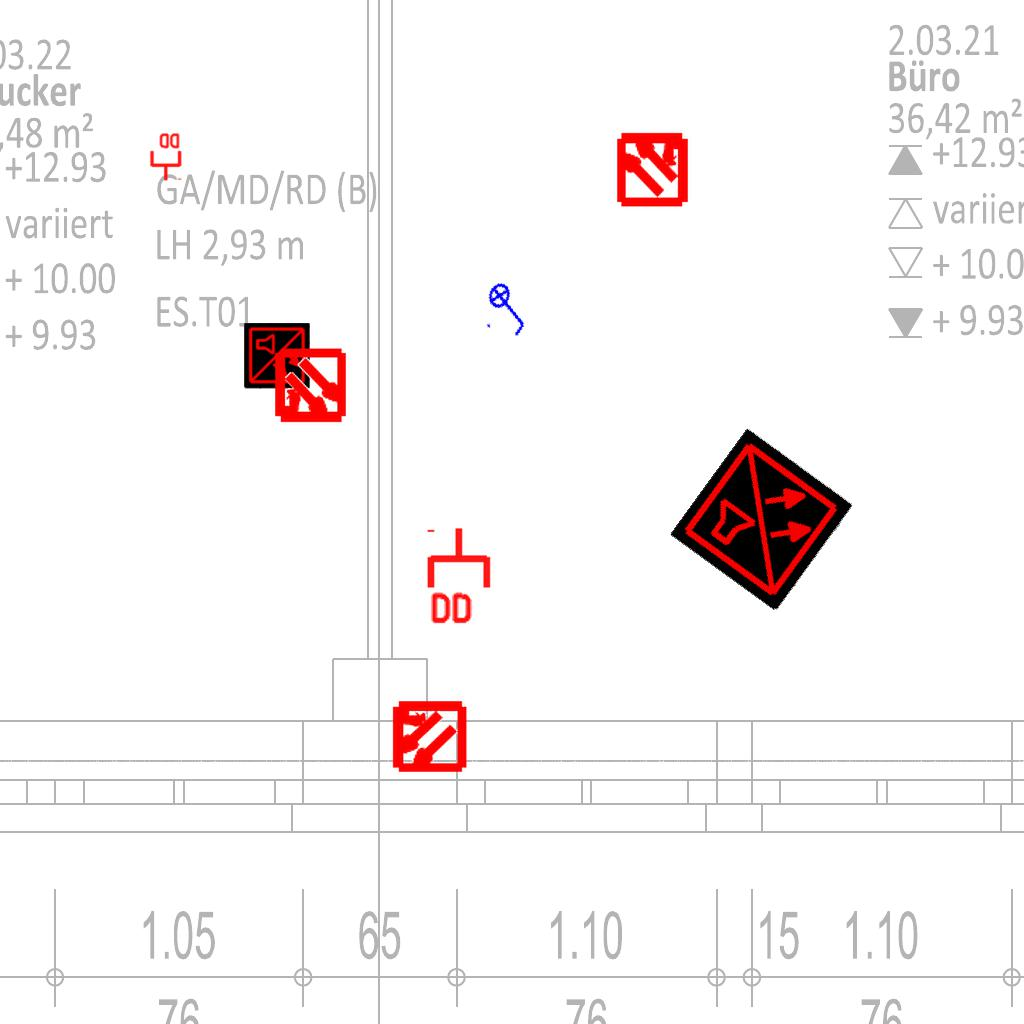Ausschalter_beleuchtet: (477, 273, 541, 343)
Datenanschluss_zweifach: (426, 525, 495, 628), (148, 131, 182, 182)
OKW_Multisensormelder_(Kombination_optischer_Rauch-Kahlenmonoxid_Waerme-Melder): (669, 427, 855, 613), (244, 323, 310, 389)
OT_Multisensormelder_(Kombination_RMO_WMD): (596, 111, 709, 224), (371, 680, 484, 793), (254, 331, 367, 444)
